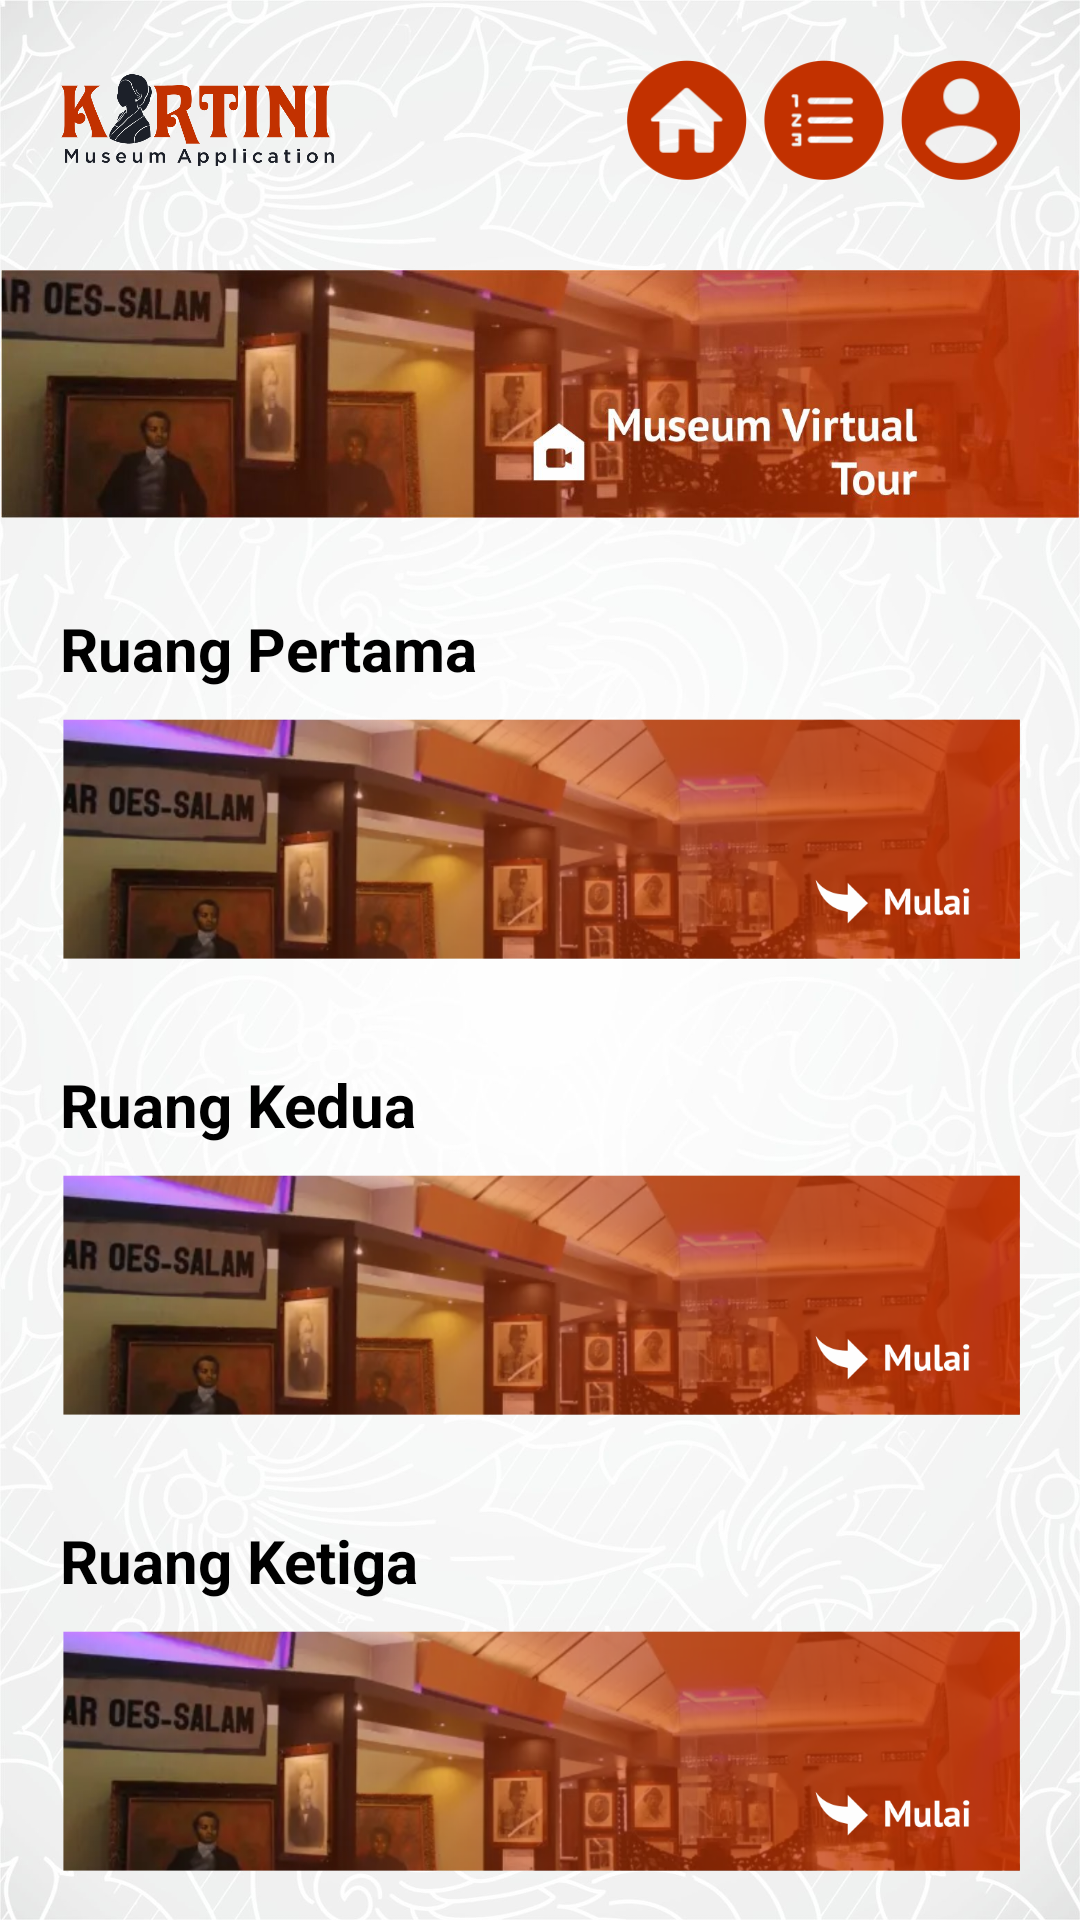

Locate icon controls on the screen. Image size 1080×1920, boxes as (x1, y1, x2, y2).
home: (627, 60, 747, 180)
menu: (764, 60, 884, 180)
user: (901, 60, 1020, 180)
